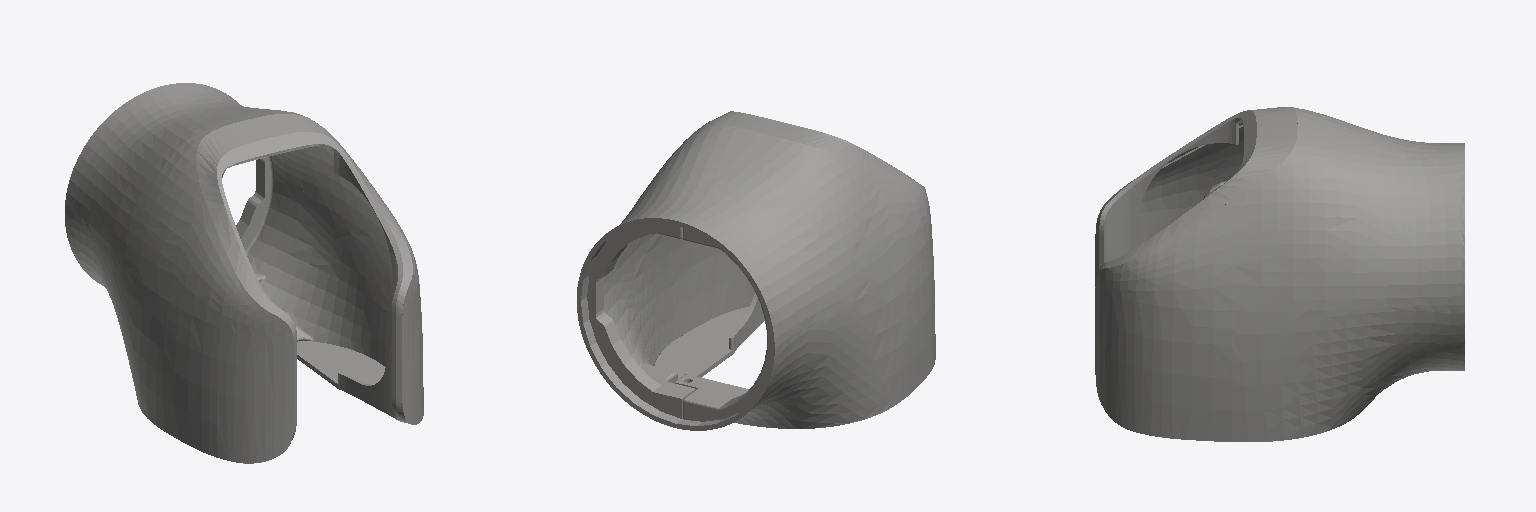
3 renders of one model, left to right at view 1: azimuth 30°, elevation 25°; view 2: azimuth 150°, elevation 25°; view 3: azimuth 270°, elevation 25°, orthographic.
Parts seen in each view (by area): view 1: left_arm_link2; view 2: left_arm_link2; view 3: left_arm_link2.
Boxes of the visible parts, box(x1,y1,x2,y2) form: left_arm_link2: box(65, 83, 423, 463); left_arm_link2: box(577, 111, 935, 430); left_arm_link2: box(1095, 107, 1464, 441).
Bounding box in the file's own units: 0.1086 × 0.1148 × 0.148.
Materials: 1 (1 with a texture image).